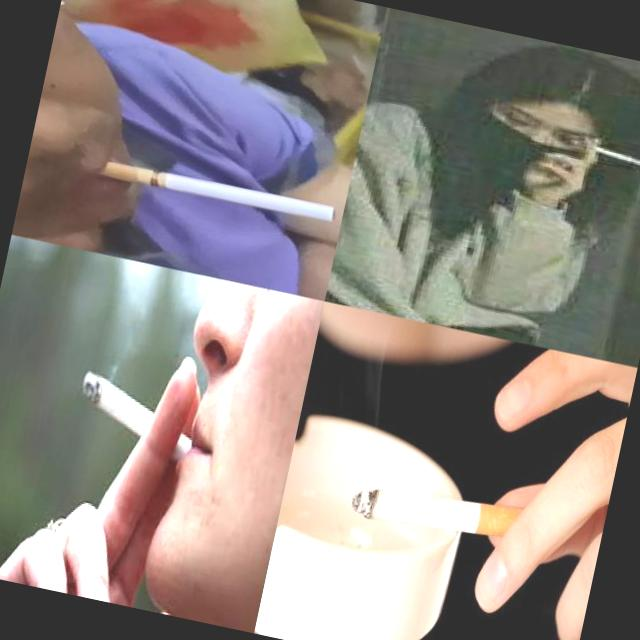smoke: (338, 467, 552, 576), (95, 157, 333, 225), (68, 370, 214, 472), (565, 137, 640, 167)
